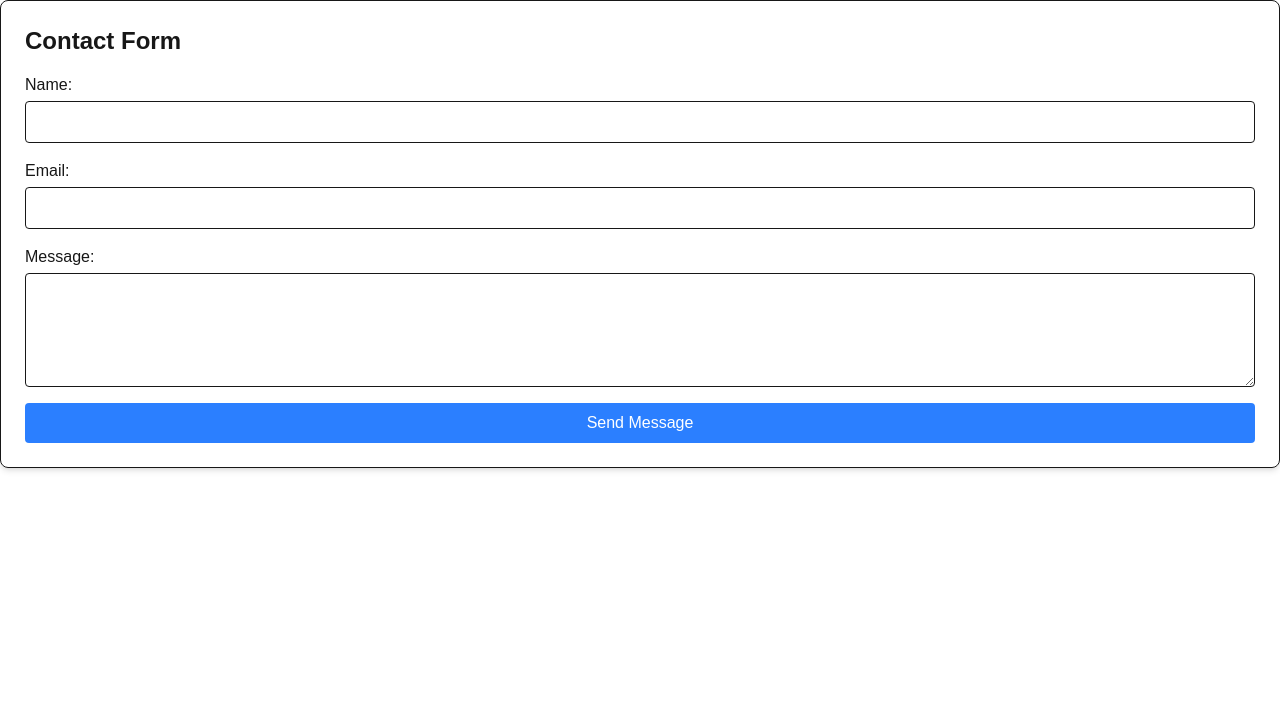
Test: ContactForm Component › should show error when email is empty
Type "John" into the field with test id "name-input" at [640, 122], box [25,101,1255,143]
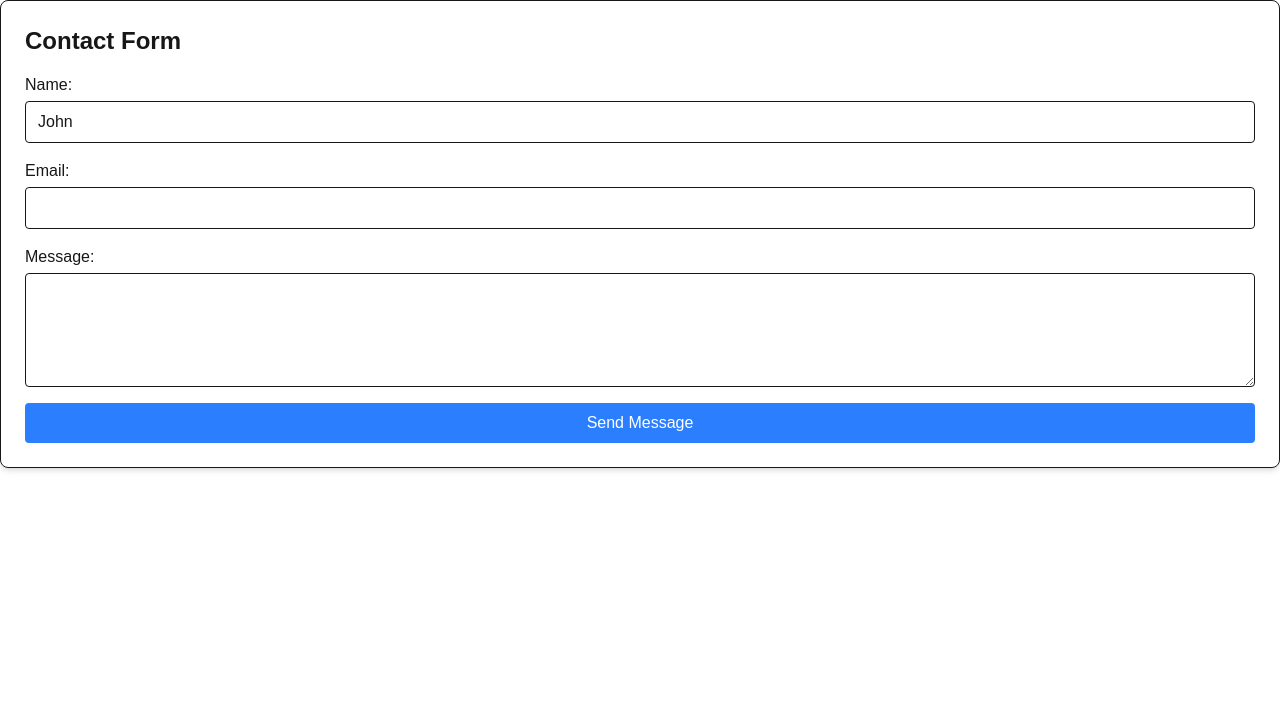
Click the button with test id "submit-button" at [640, 423], box [25,403,1255,443]
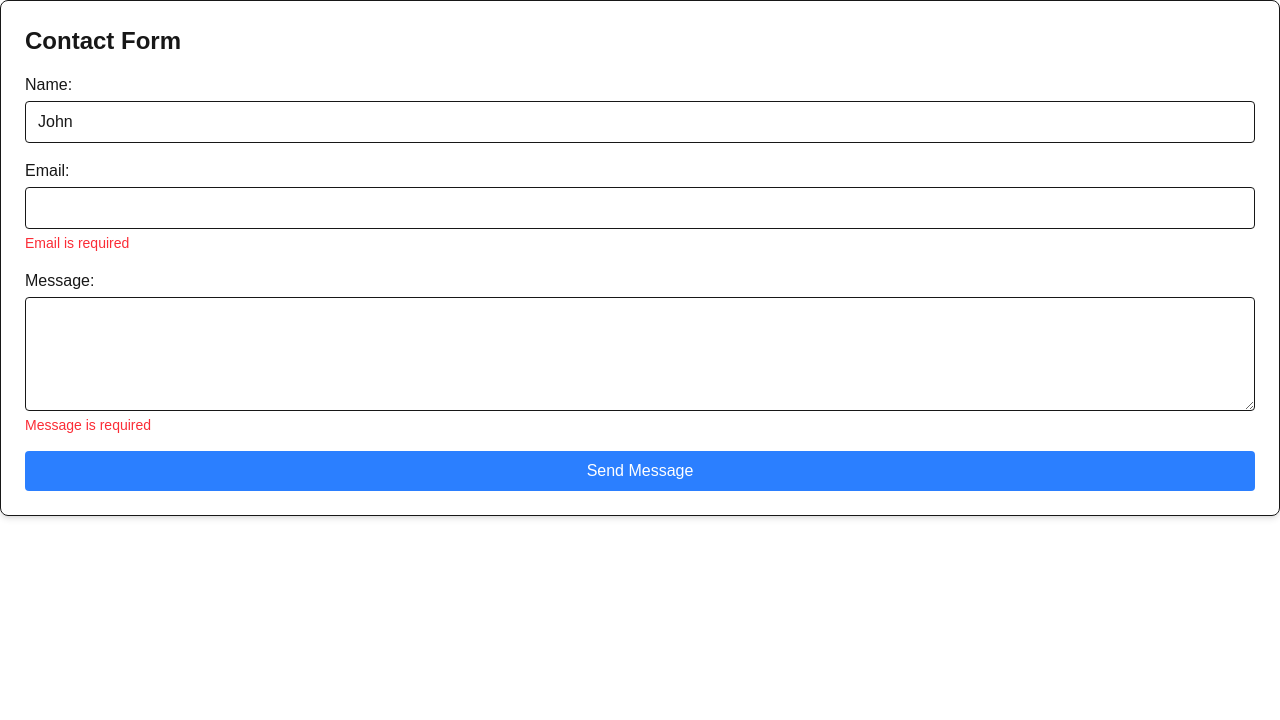
Now the text with test id "email-error" reads "Email is required", box [25,235,129,251]
